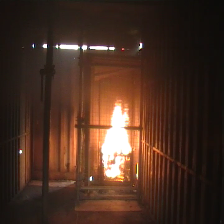fire_h: (101, 100, 131, 169), (104, 156, 125, 178)
fire_l: (125, 156, 130, 162)
